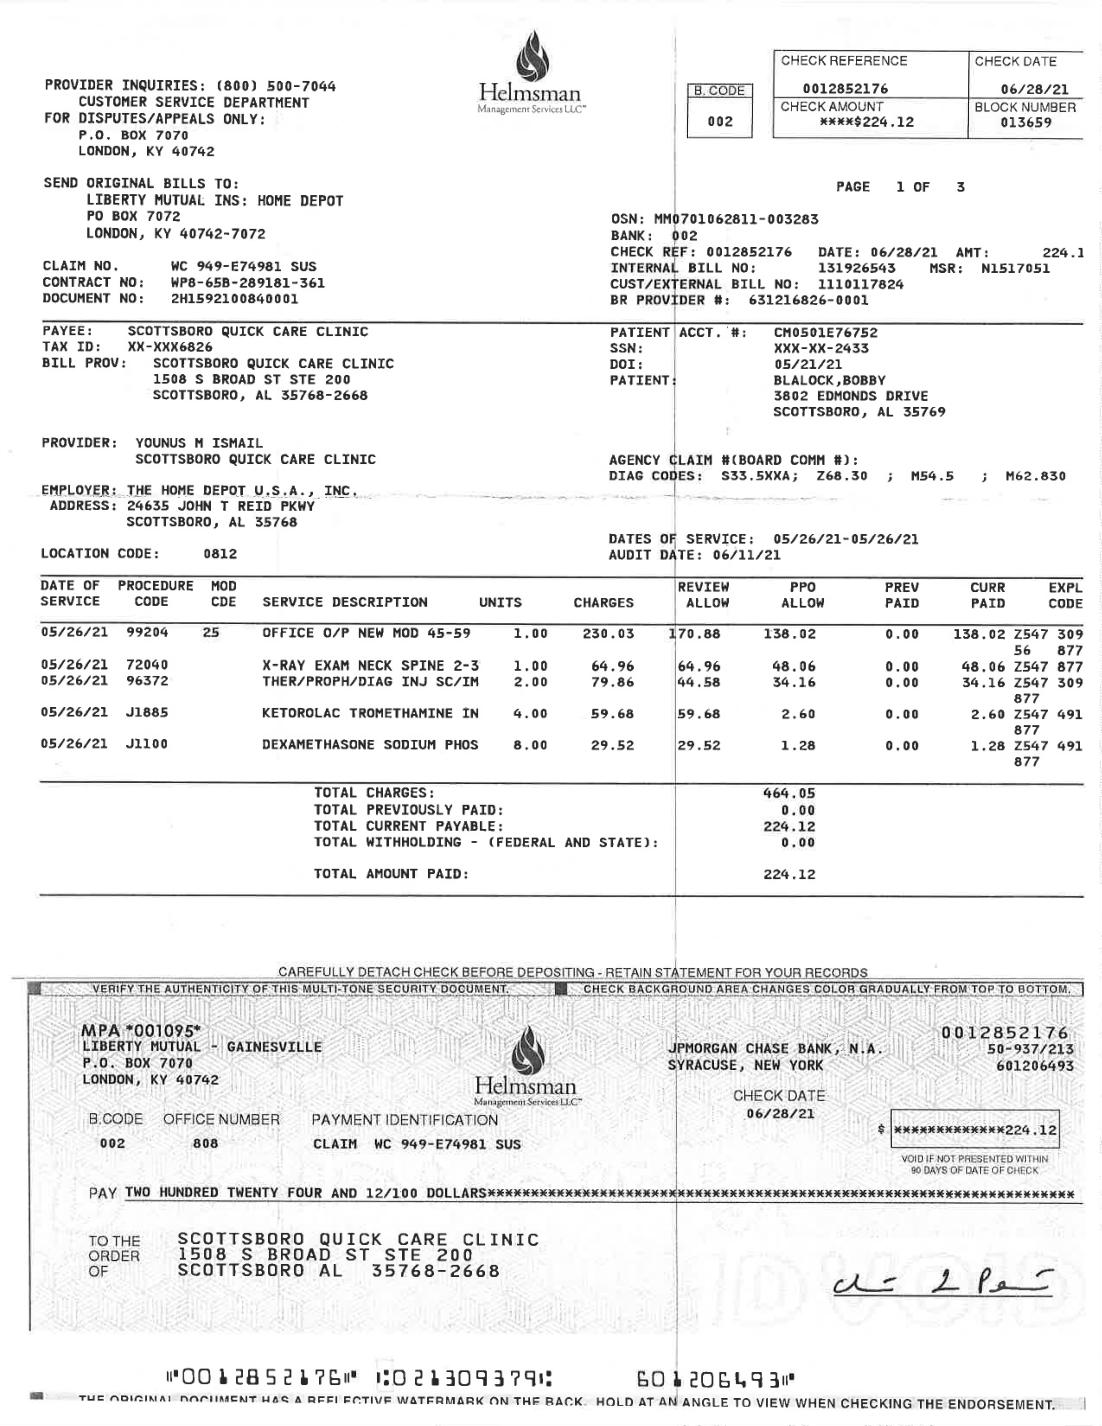data: (597, 207, 1089, 424), (37, 244, 401, 410), (35, 425, 403, 538), (597, 444, 1079, 498), (595, 521, 942, 567)
table: (29, 567, 1094, 787)
